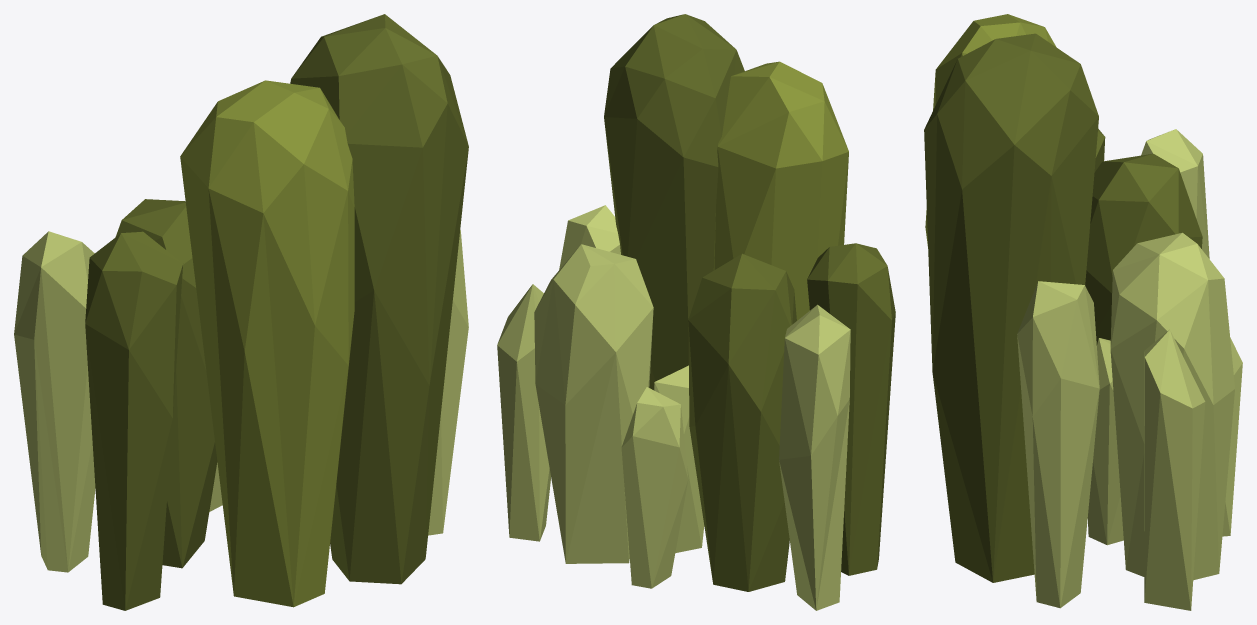
File: ea_swamp_grass_01f_pre__15__lev1.glb
3 renders of one model, left to right at view 1: azimuth 30°, elevation 25°; view 2: azimuth 150°, elevation 25°; view 3: azimuth 270°, elevation 25°, orthographic. The views are drawn at different scales.
Parts seen in each view (by area): view 1: ea_swamp_grass_01f_pre__15__lev1; view 2: ea_swamp_grass_01f_pre__15__lev1; view 3: ea_swamp_grass_01f_pre__15__lev1.
Boxes of the visible parts, bbox=[...] form: ea_swamp_grass_01f_pre__15__lev1: bbox=[14, 14, 468, 610]; ea_swamp_grass_01f_pre__15__lev1: bbox=[497, 14, 895, 610]; ea_swamp_grass_01f_pre__15__lev1: bbox=[924, 14, 1242, 610].
Size of the model in its own units: 1.4 by 1.87 by 1.03.
Materials: 1 (1 with a texture image).
